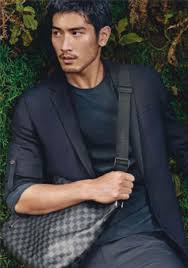asian_male: (48, 11, 110, 74)
